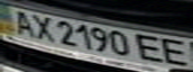0: (109, 28, 133, 60)
1: (72, 22, 93, 52)
2: (51, 18, 75, 48)
9: (90, 25, 112, 55)
A: (6, 8, 39, 38)
E: (157, 36, 193, 69), (133, 33, 169, 65)
X: (27, 12, 57, 43)
